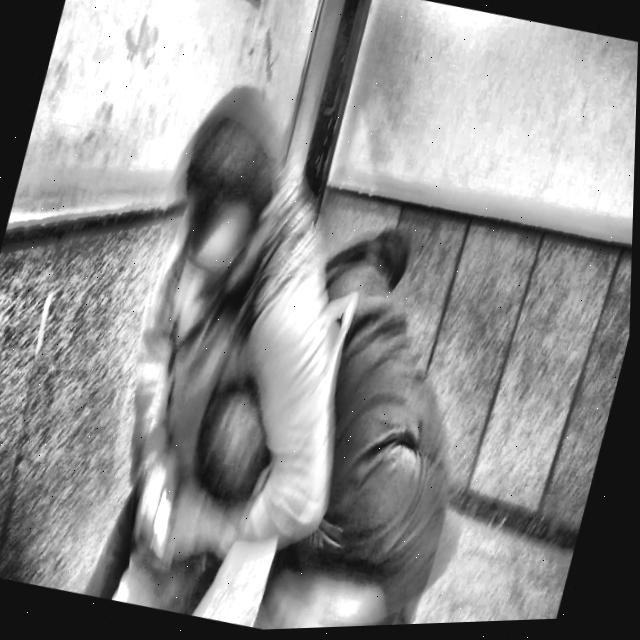robbery: (77, 105, 454, 629)
